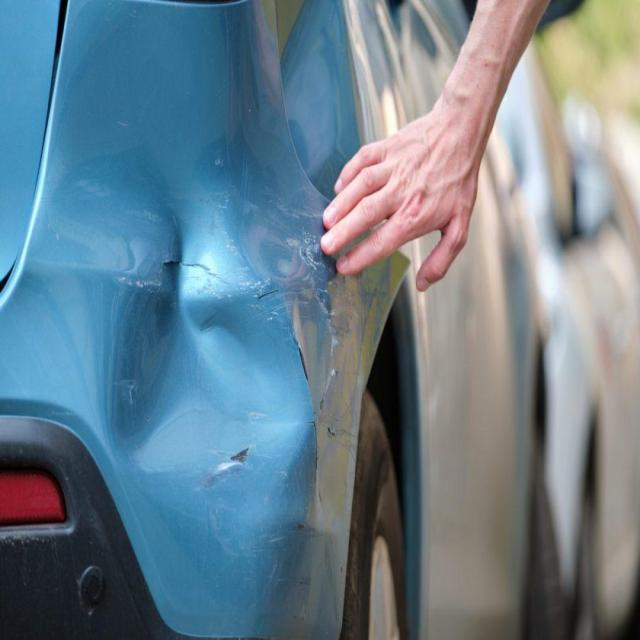dent: (51, 155, 320, 589), (247, 222, 313, 298)
